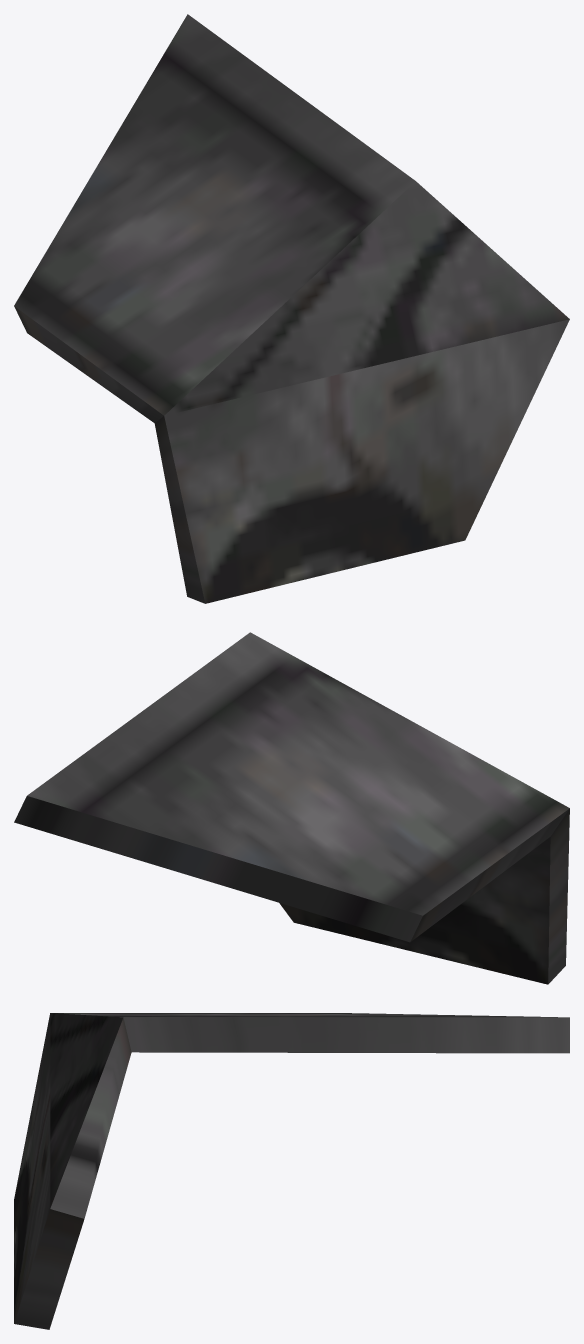
The model's file is Shared - Ground Vehicles - CV Generic x 03 - CVGeneric_x03.glb.
3 views of the same model, one above another, from view 1: azimuth 30°, elevation 25°; view 2: azimuth 150°, elevation 25°; view 3: azimuth 270°, elevation 25° (orthographic). The views are drawn at different scales.
Parts seen in each view (by area): view 1: CVGENERIC_X03; view 2: CVGENERIC_X03; view 3: CVGENERIC_X03.
Part boxes in pixels (bbox=[...]): CVGENERIC_X03: bbox=[14, 14, 569, 603]; CVGENERIC_X03: bbox=[14, 632, 569, 984]; CVGENERIC_X03: bbox=[14, 1013, 569, 1329].
Size of the model in its own units: 5.7 by 4.33 by 6.91.
Materials: 1 (1 with a texture image).
